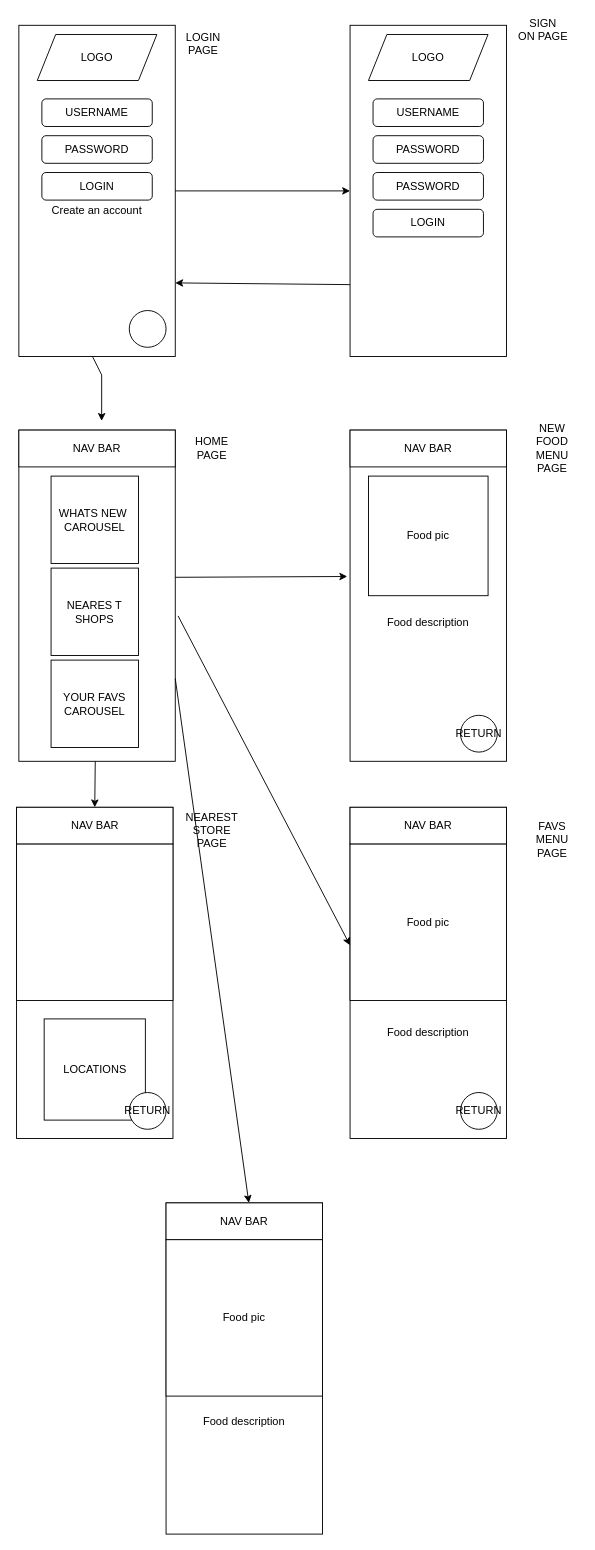
Image size: 595x1550. Some labels were removed from this diagram. Each missing label, with the centre of its shape:
"HELP" belongs at point 147,328.
"MAP" belongs at point 94,921.
